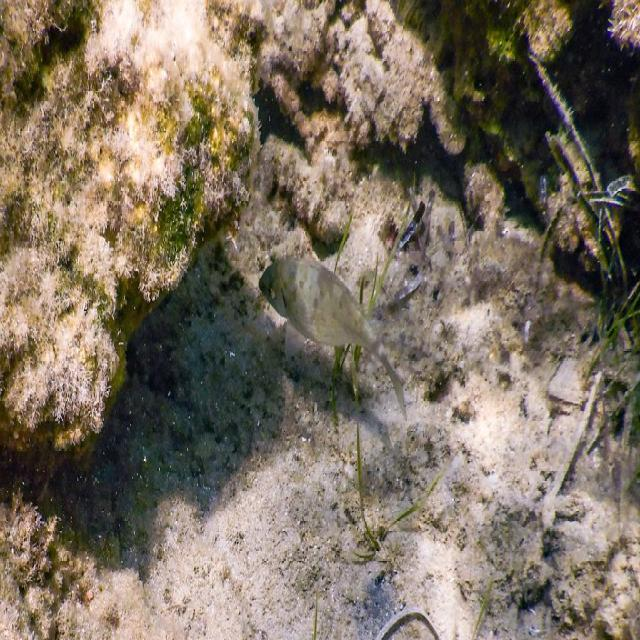Sokar Baligi: (255, 240, 420, 427)
